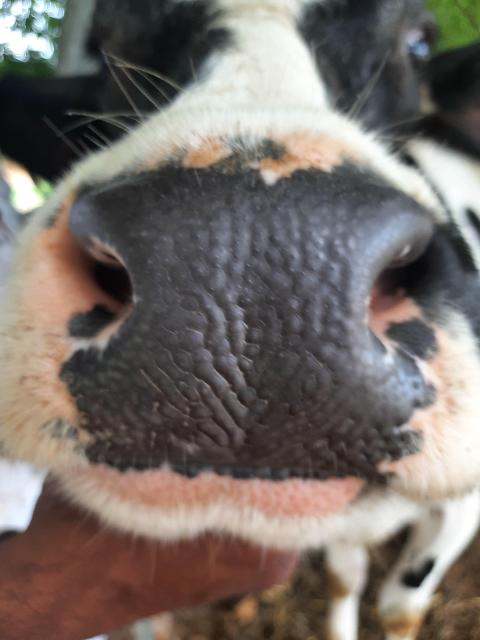Muzzle: (136, 195, 358, 448)
